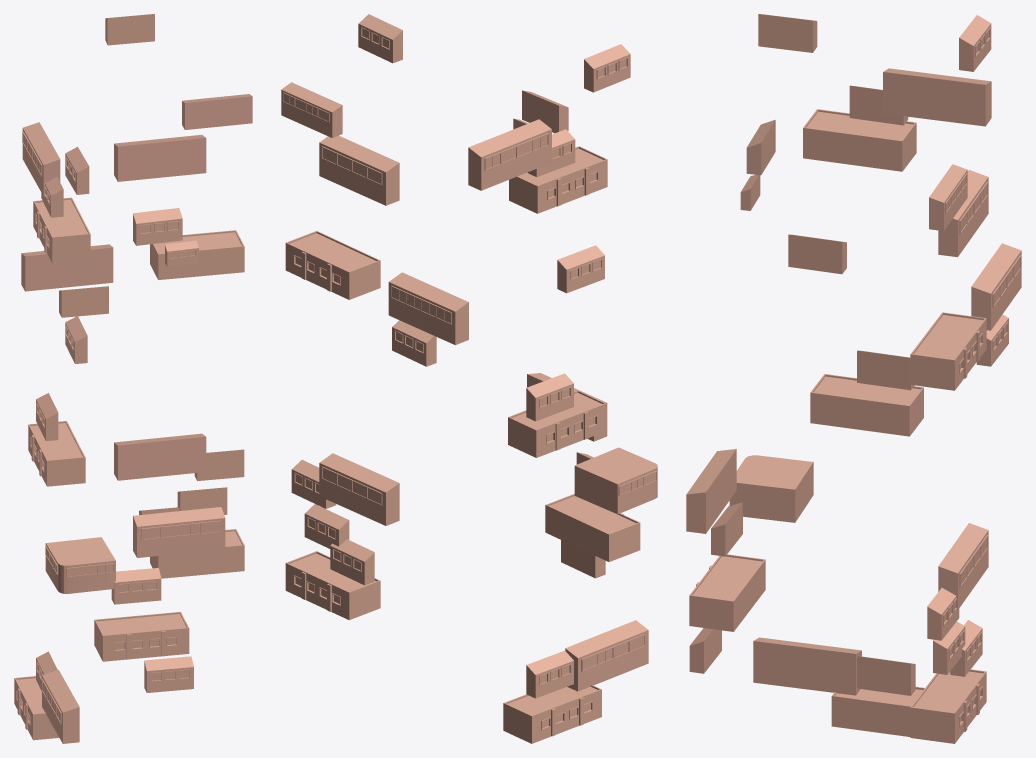
The model's file is maison bidonville 03.fbx.
3 views of the same model, side by side, from view 1: azimuth 30°, elevation 25°; view 2: azimuth 150°, elevation 25°; view 3: azimuth 270°, elevation 25° (orthographic). The views are drawn at different scales.
Visible parts, largest first — view 1: Cube.573, Cube.611, Cube.578, Cube.560, Cube.620, Cube.616, Cube.569, Cube.602, Cube.568, Cube.584, Cube.622, Cube.382 (+17 smaller); view 2: Cube.616, Cube.573, Cube.556, Cube.584, Cube.568, Cube.569, Cube.602, Cube.604, Cube.578, Cube.620, Cube.611, Cube.382 (+18 smaller); view 3: Cube.602, Cube.568, Cube.604, Cube.382, Cube.569, Cube.616, Cube.573, Cube.584, Cube.556, Cube.560, Cube.620, Cube.578 (+16 smaller).
Part boxes in pixels (<box>): Cube.573: <box>94,611,189,661</box>; Cube.611: <box>114,134,206,181</box>; Cube.578: <box>114,433,206,480</box>; Cube.560: <box>133,507,225,557</box>; Cube.620: <box>21,244,113,291</box>; Cube.616: <box>150,230,244,279</box>; Cube.569: <box>45,537,115,593</box>; Cube.602: <box>33,197,90,263</box>; Cube.568: <box>28,421,85,486</box>; Cube.584: <box>150,529,244,578</box>; Cube.622: <box>182,94,252,129</box>; Cube.382: <box>42,670,79,743</box>; Cube.616: <box>285,231,380,299</box>; Cube.573: <box>545,494,640,561</box>; Cube.556: <box>503,685,601,743</box>; Cube.584: <box>285,551,380,620</box>; Cube.568: <box>508,390,606,457</box>; Cube.569: <box>574,447,657,514</box>; Cube.602: <box>509,146,607,213</box>; Cube.604: <box>468,119,551,190</box>; Cube.578: <box>319,453,399,525</box>; Cube.620: <box>388,272,468,345</box>; Cube.611: <box>319,135,399,205</box>; Cube.382: <box>565,620,648,691</box>; Cube.602: <box>803,109,916,171</box>; Cube.568: <box>810,374,923,436</box>; Cube.604: <box>883,68,991,126</box>; Cube.382: <box>753,637,861,695</box>; Cube.569: <box>729,455,813,522</box>; Cube.616: <box>910,312,986,390</box>; Cube.573: <box>689,554,765,631</box>; Cube.584: <box>910,669,986,743</box>; Cube.556: <box>831,686,924,736</box>; Cube.560: <box>686,449,736,533</box>; Cube.620: <box>971,243,1021,330</box>; Cube.578: <box>938,523,988,610</box>.
Bounding box in the file's own units: 41.84 × 95.66 × 37.86.
